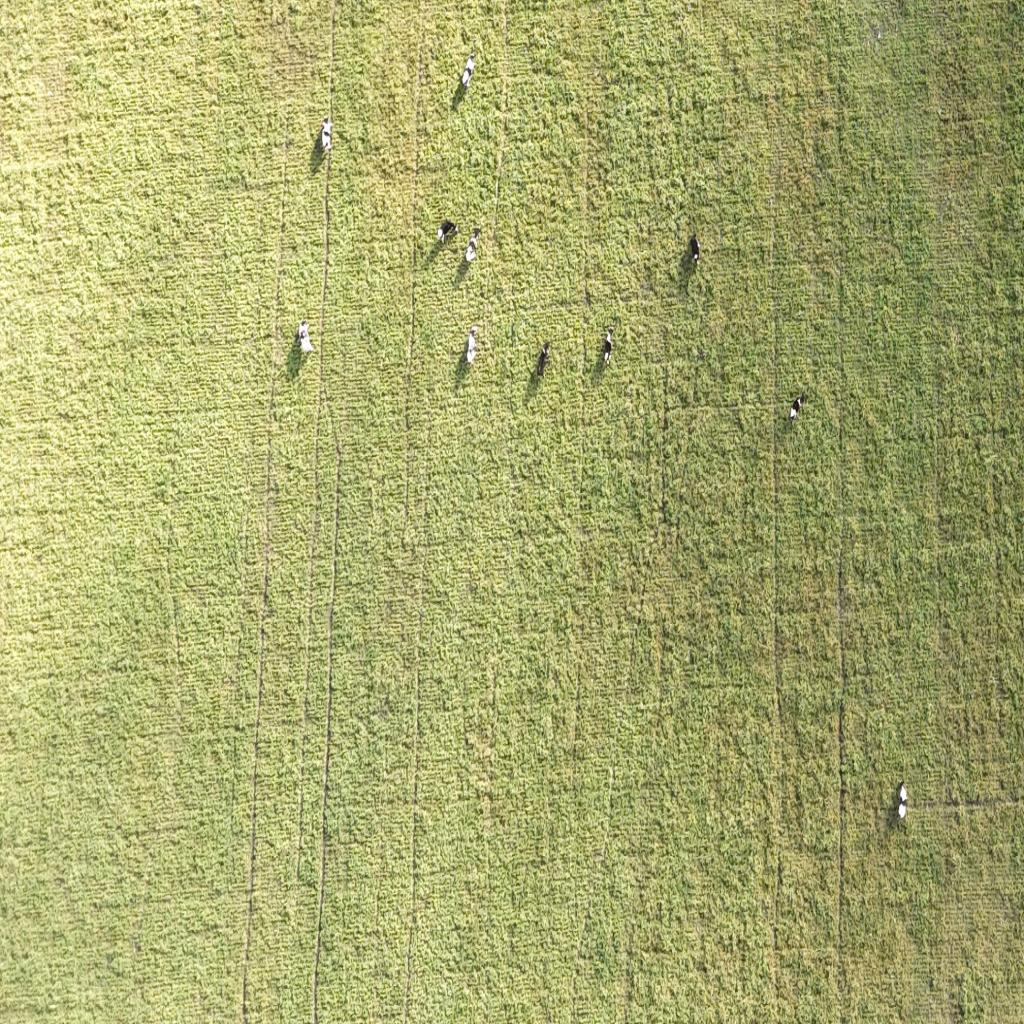cow: (437, 220, 457, 246), (536, 344, 550, 380), (790, 392, 807, 420), (300, 320, 314, 354), (898, 784, 910, 820), (467, 231, 481, 261), (689, 237, 702, 269), (602, 330, 614, 364), (321, 118, 333, 152), (466, 328, 477, 363), (462, 55, 474, 87)
